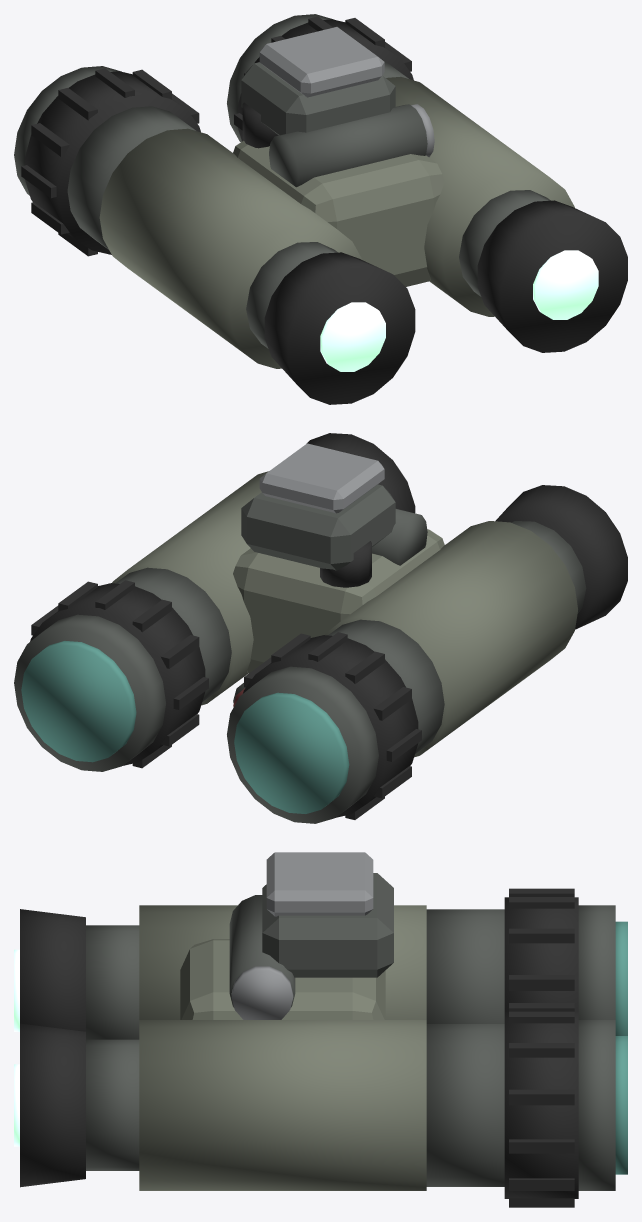
File: nvg.glb
3 renders of one model, top to bottom at view 1: azimuth 30°, elevation 25°; view 2: azimuth 150°, elevation 25°; view 3: azimuth 270°, elevation 25°, orthographic. The views are drawn at different scales.
Parts seen in each view (by area): view 1: Nvg; view 2: Nvg; view 3: Nvg.
Part boxes in pixels (bbox=[...]): Nvg: bbox=[14, 14, 627, 404]; Nvg: bbox=[14, 433, 627, 823]; Nvg: bbox=[14, 852, 627, 1207].
Size of the model in its own units: 0.115 by 0.072 by 0.1495.
